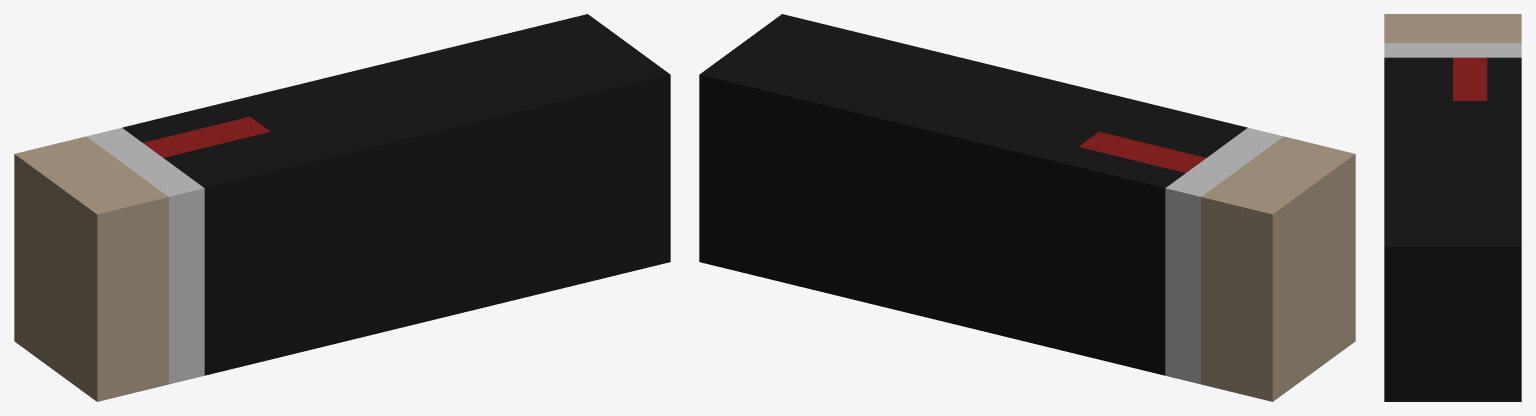
The model's file is brazo.obj.
3 views of the same model, side by side, from view 1: azimuth 30°, elevation 25°; view 2: azimuth 150°, elevation 25°; view 3: azimuth 270°, elevation 25° (orthographic). The views are drawn at different scales.
Parts seen in each view (by area): view 1: brazo; view 2: brazo; view 3: brazo.
Part boxes in pixels (bbox=[...]): brazo: bbox=[14, 14, 670, 401]; brazo: bbox=[699, 14, 1355, 401]; brazo: bbox=[1384, 14, 1521, 401].
Bounding box in the file's own units: 1.6 × 0.5 × 0.4.
Materials: 1 (1 with a texture image).
